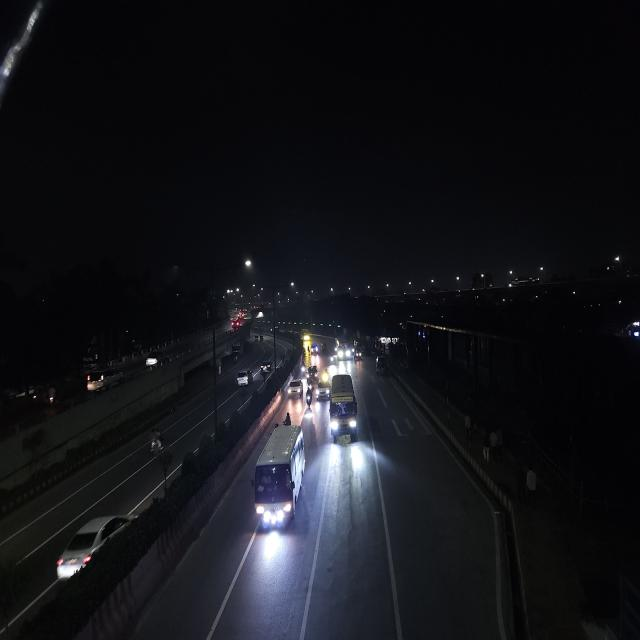bus: (249, 421, 307, 535), (328, 370, 360, 445), (337, 337, 353, 361)
car: (53, 507, 139, 583), (85, 366, 121, 394), (287, 376, 304, 404), (145, 352, 171, 370), (234, 368, 253, 389), (306, 364, 321, 387), (316, 382, 330, 402), (373, 353, 386, 372), (260, 359, 274, 376), (230, 318, 240, 330), (310, 344, 319, 355)
cng: (354, 348, 363, 360)
motorcycle: (146, 428, 166, 458), (305, 384, 313, 408), (283, 408, 293, 426)
pedestrian: (306, 346, 310, 354)
